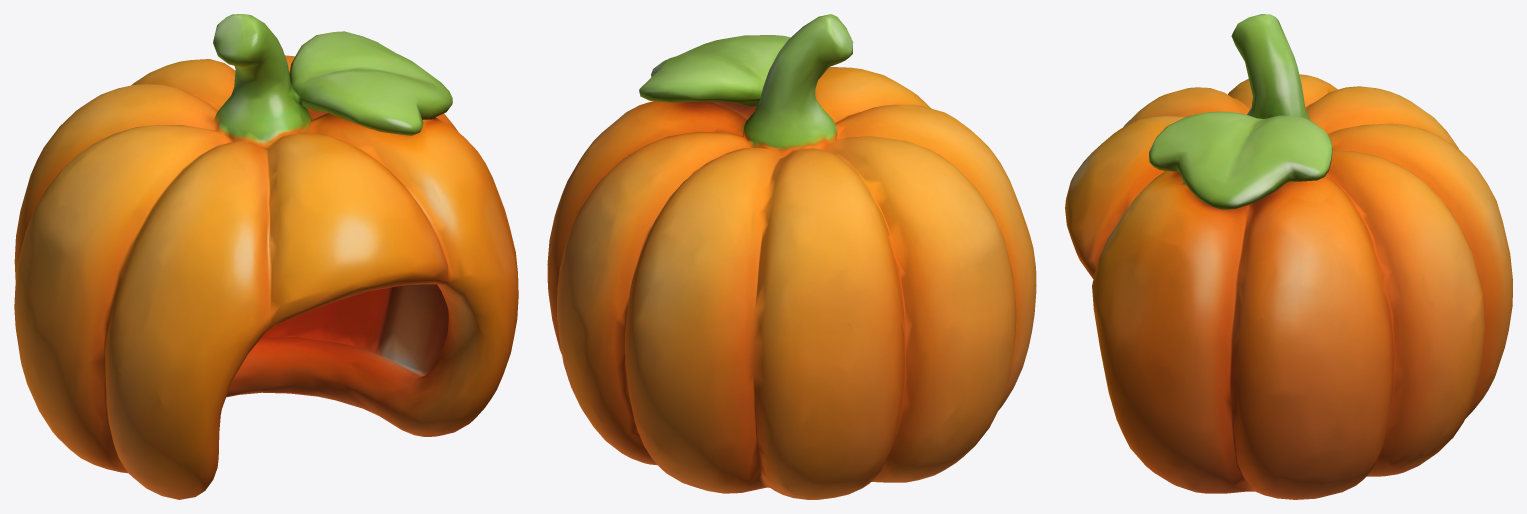
File: cs-pumpkin-cap.glb
The picture shows the model from 3 angles, left to right: view 1: azimuth 30°, elevation 25°; view 2: azimuth 150°, elevation 25°; view 3: azimuth 270°, elevation 25°; orthographic projection. The views are drawn at different scales.
Visible parts, largest first — view 1: tripo_node_d2f53a15-2e1f-4468-846d-13fd5d6b476e; view 2: tripo_node_d2f53a15-2e1f-4468-846d-13fd5d6b476e; view 3: tripo_node_d2f53a15-2e1f-4468-846d-13fd5d6b476e.
Boxes of the visible parts, <box> form: tripo_node_d2f53a15-2e1f-4468-846d-13fd5d6b476e: <box>14,14,518,499</box>; tripo_node_d2f53a15-2e1f-4468-846d-13fd5d6b476e: <box>547,14,1036,499</box>; tripo_node_d2f53a15-2e1f-4468-846d-13fd5d6b476e: <box>1065,14,1512,499</box>.
Bounding box in the file's own units: 1 × 0.9334 × 0.9316.
1 material, 1 textured.
